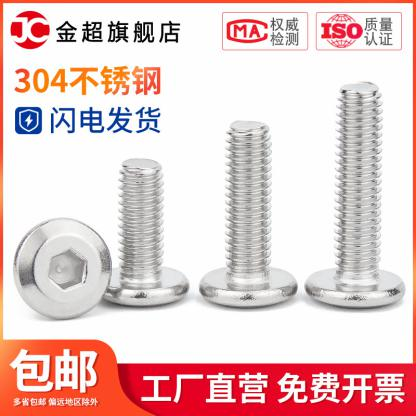FOD: (304, 82, 406, 311), (197, 122, 299, 312), (98, 152, 190, 308), (10, 214, 113, 324)
